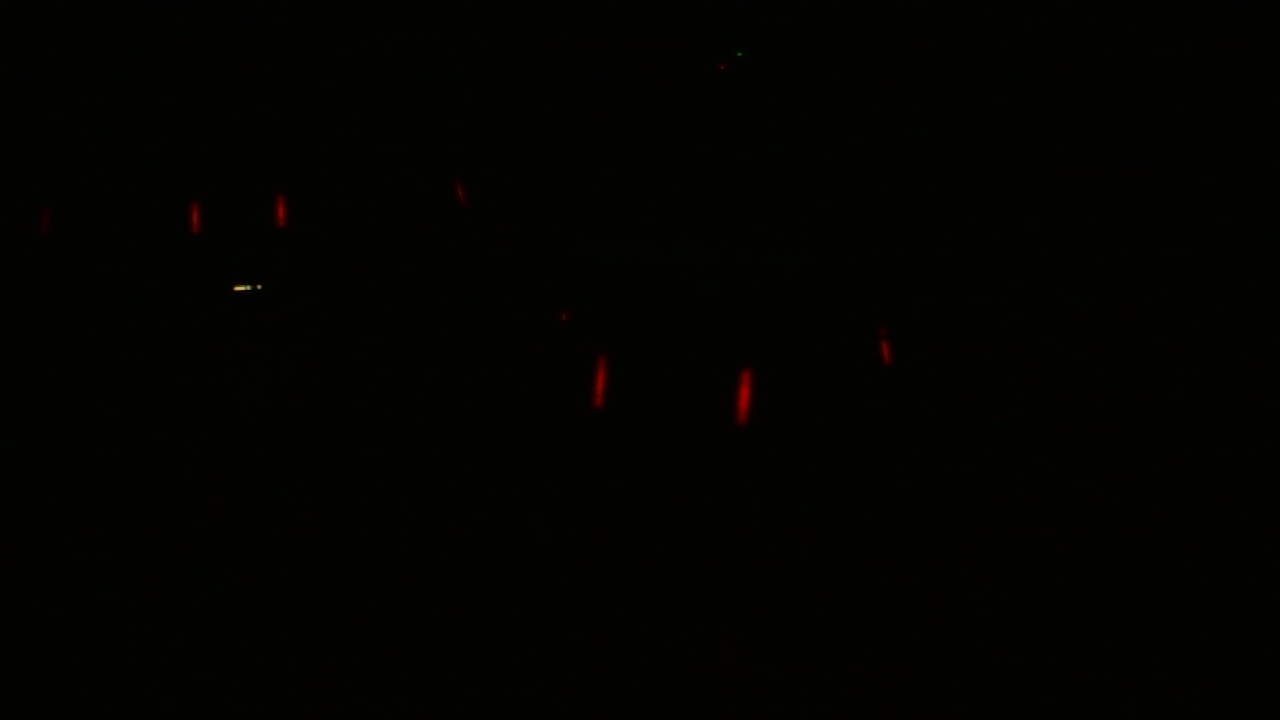pair1: (181, 184, 294, 244)
pair2: (579, 347, 759, 432)
